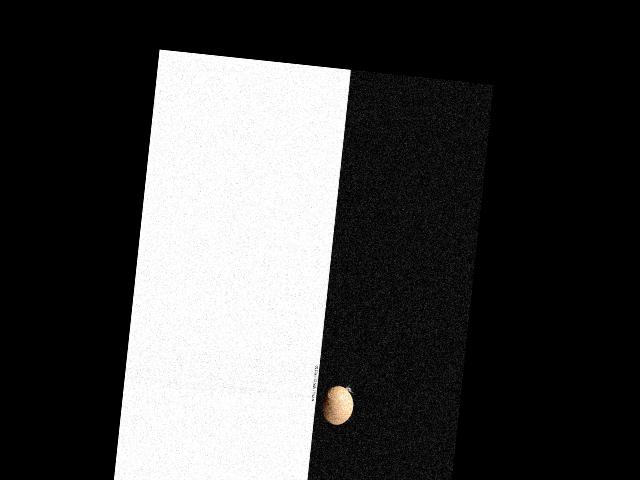egg: (319, 384, 354, 426)
